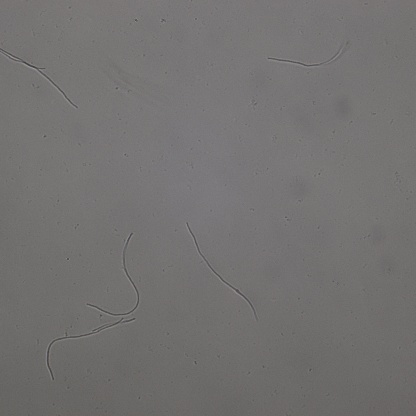Sensitive: (186, 222, 258, 319), (45, 318, 137, 380), (85, 232, 141, 316), (1, 49, 76, 107), (267, 42, 345, 66)
